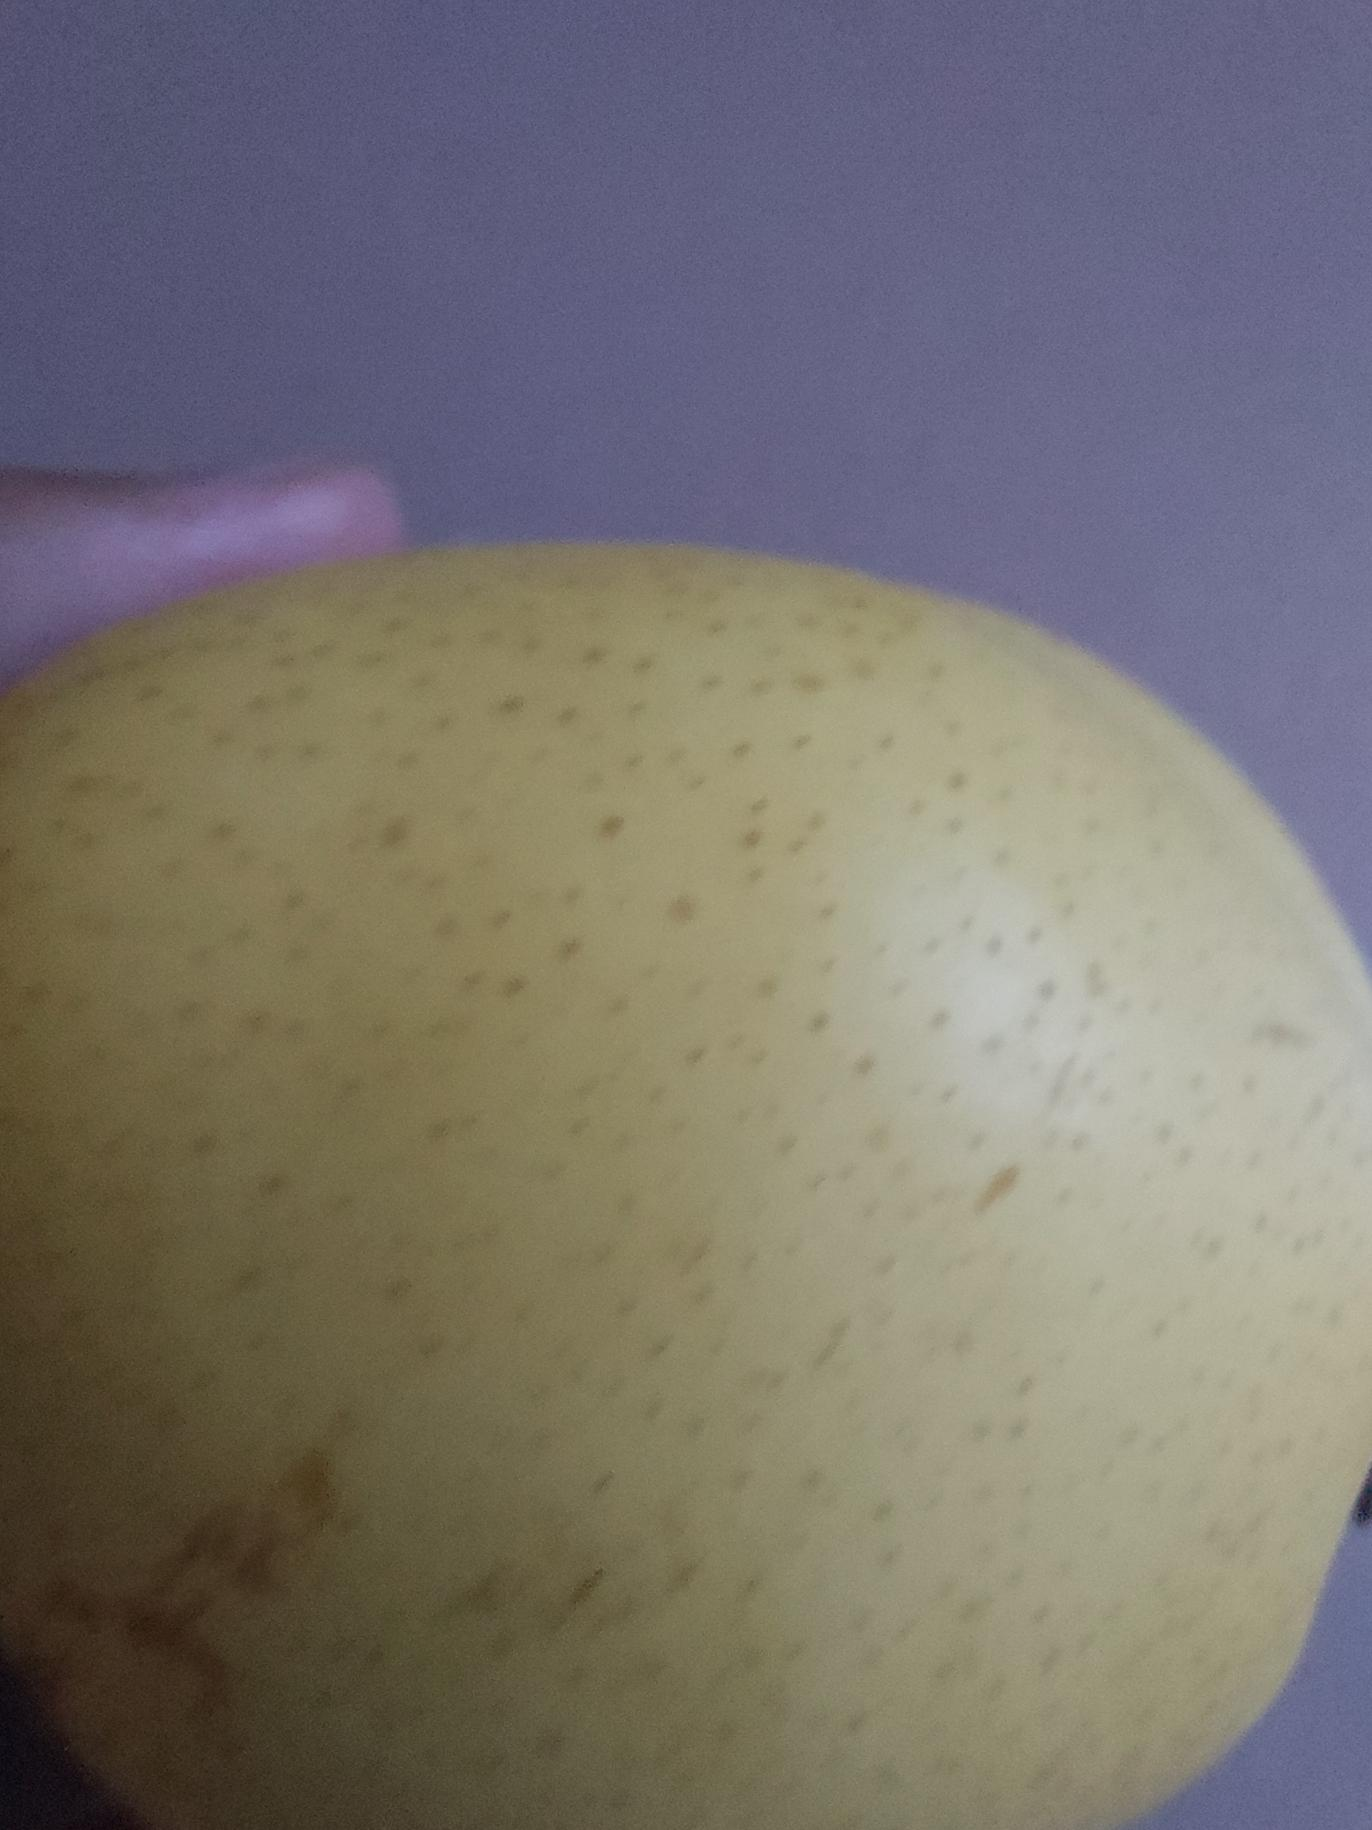Good Pear: (0, 558, 1372, 1830)
